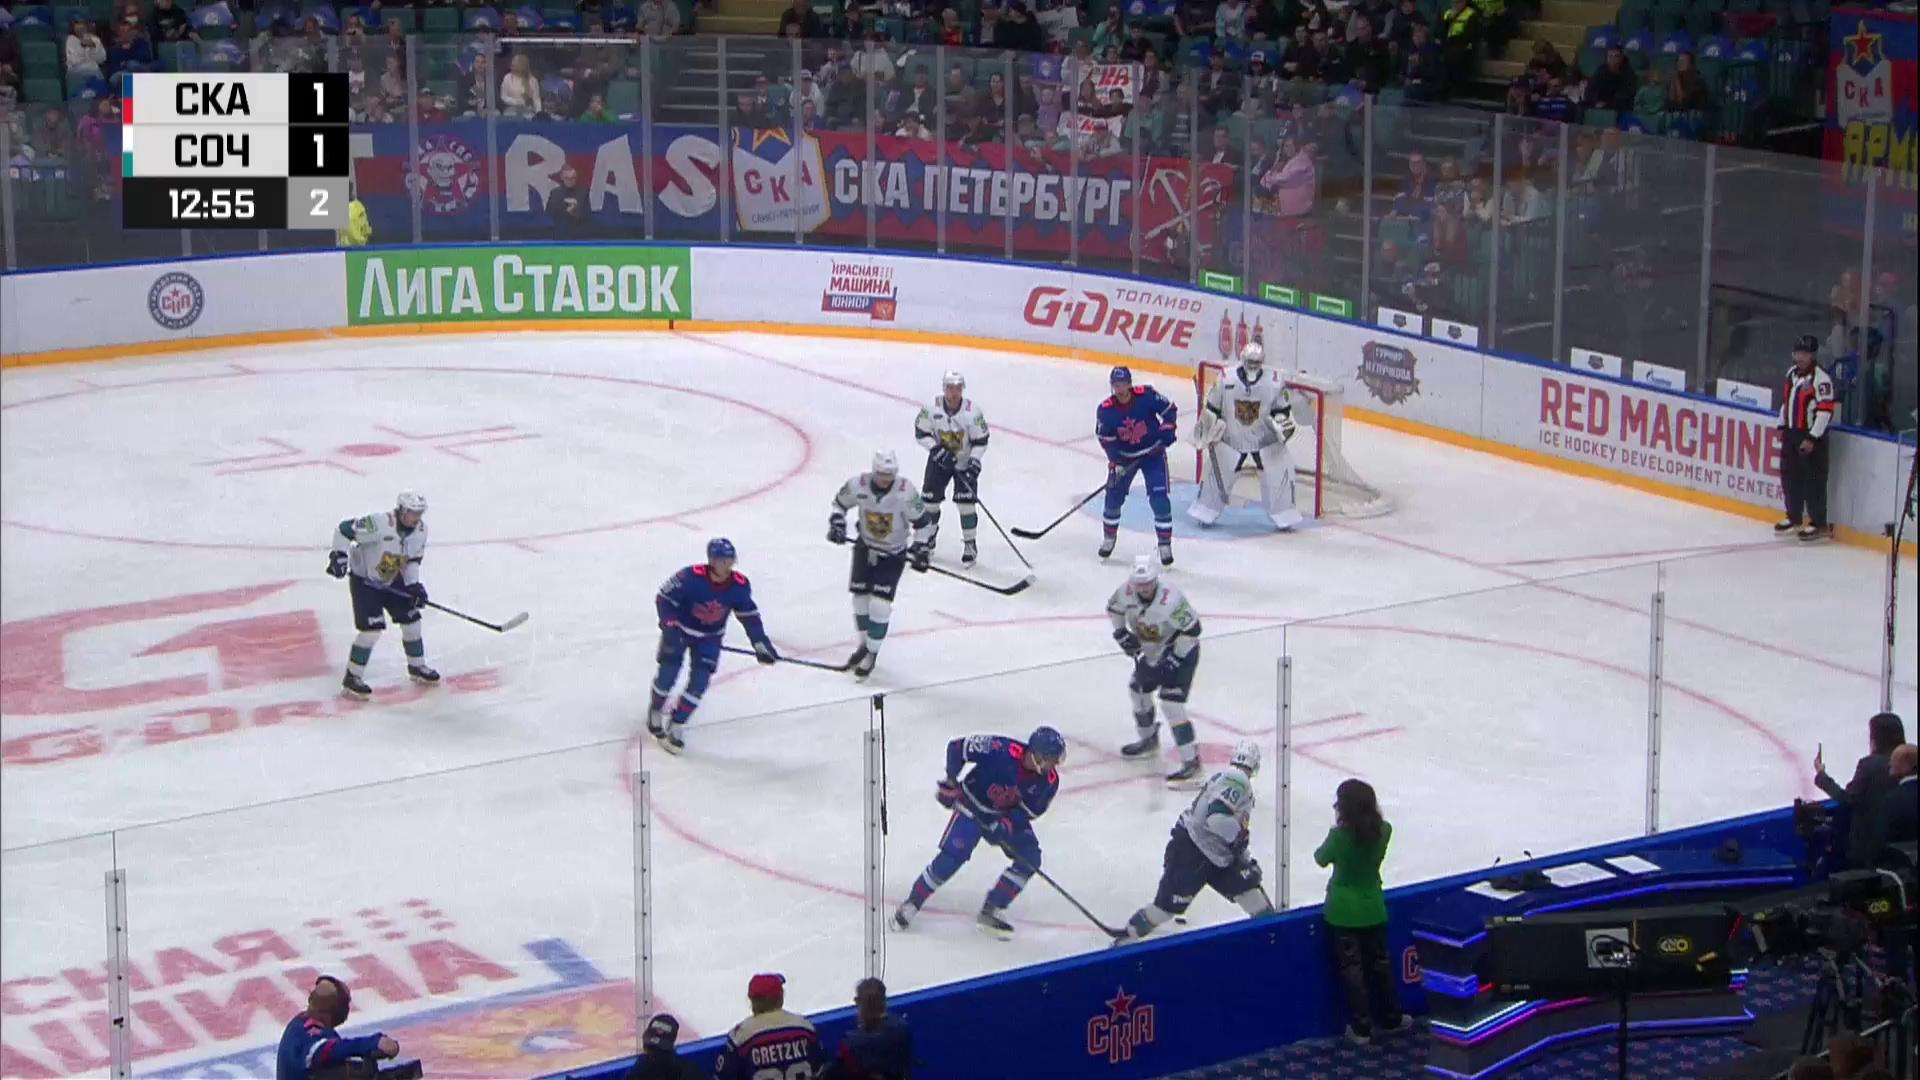ball: (1175, 918, 1188, 926)
